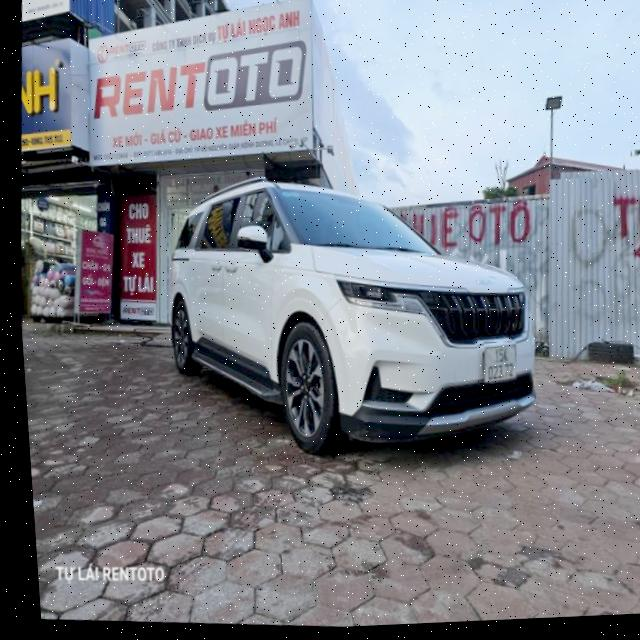car: (137, 159, 556, 485)
plate: (470, 335, 527, 389)
